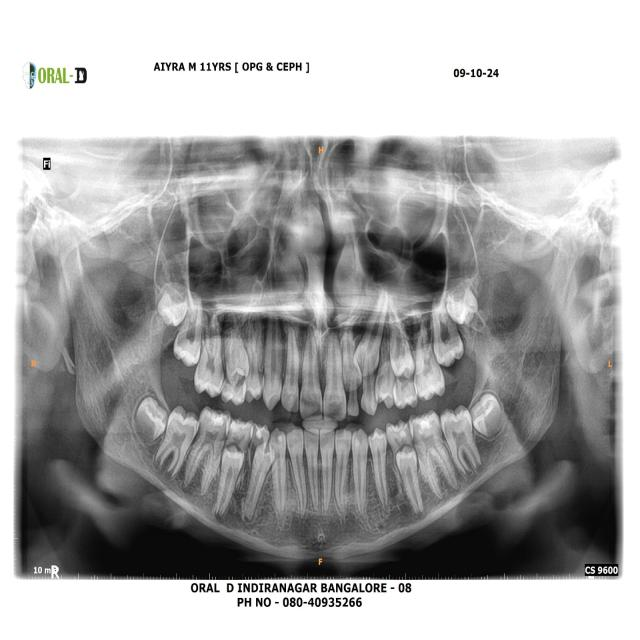Premolars: (366, 427, 393, 512)
